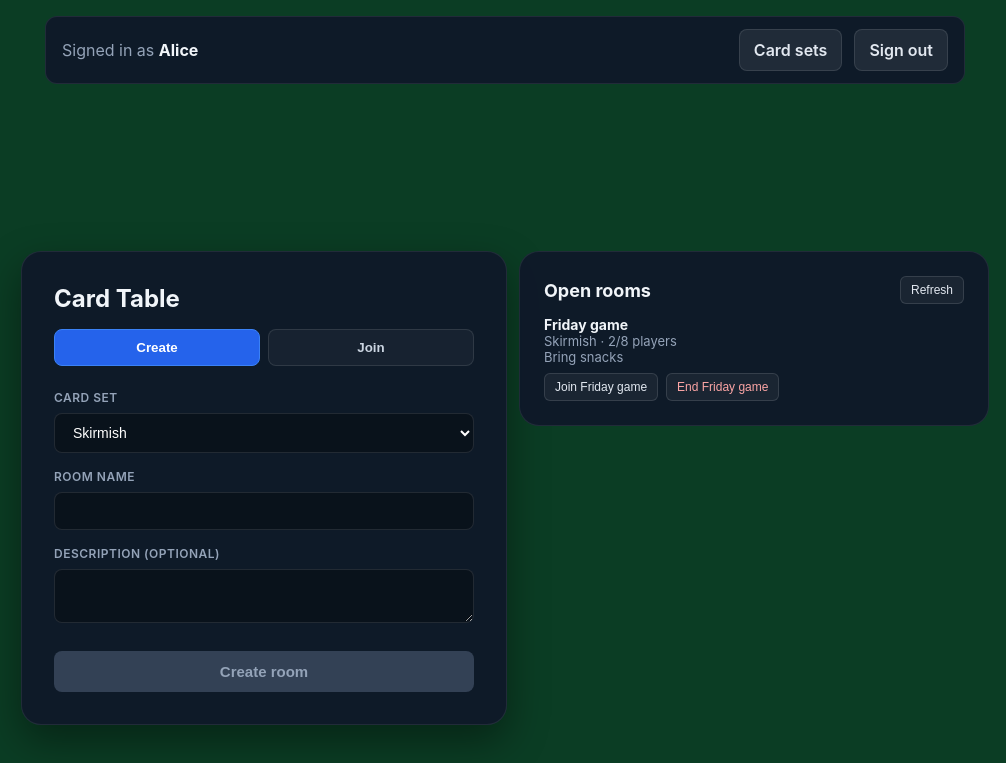
Test case: Lobby › requires room details when creating and a room code when joining
Expected: the button "Create room" is disabled, 54,651 -> 474,692
Expected: the dropdown labelled "Card set" shows "Skirmish", 54,413 -> 474,453
In the field labelled "Room name": (264,511) 54,492 -> 474,530, type "Playtest"
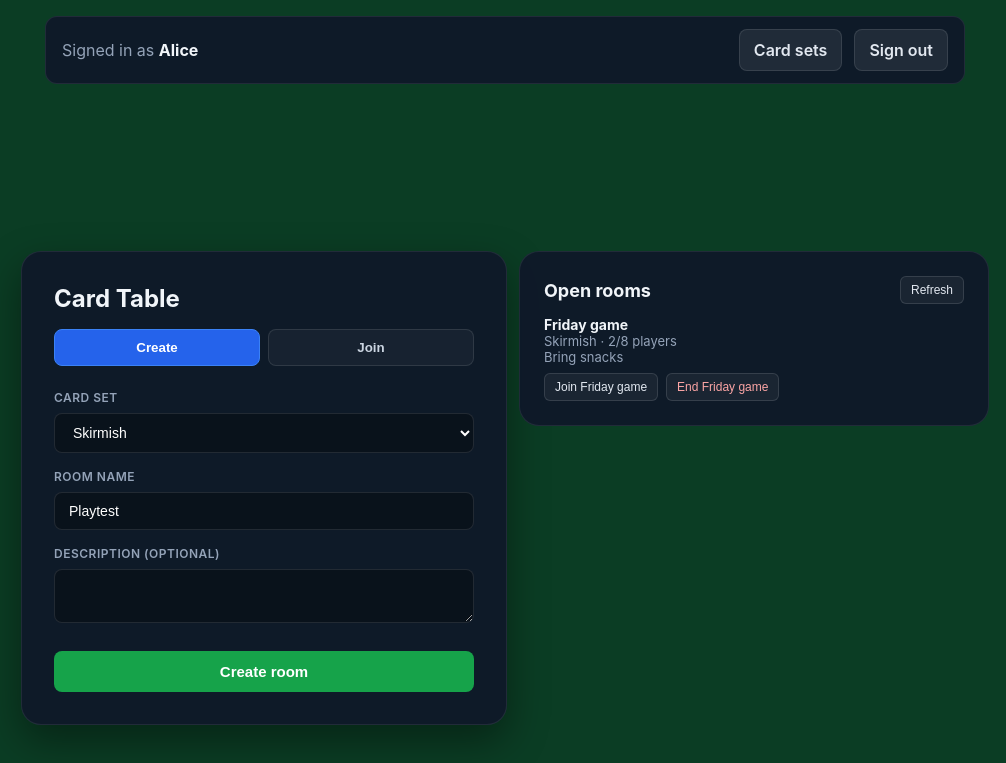
Now the button "Create room" is enabled, box 54,651 -> 474,692
Click the button "Join": (371,348) 268,329 -> 474,366
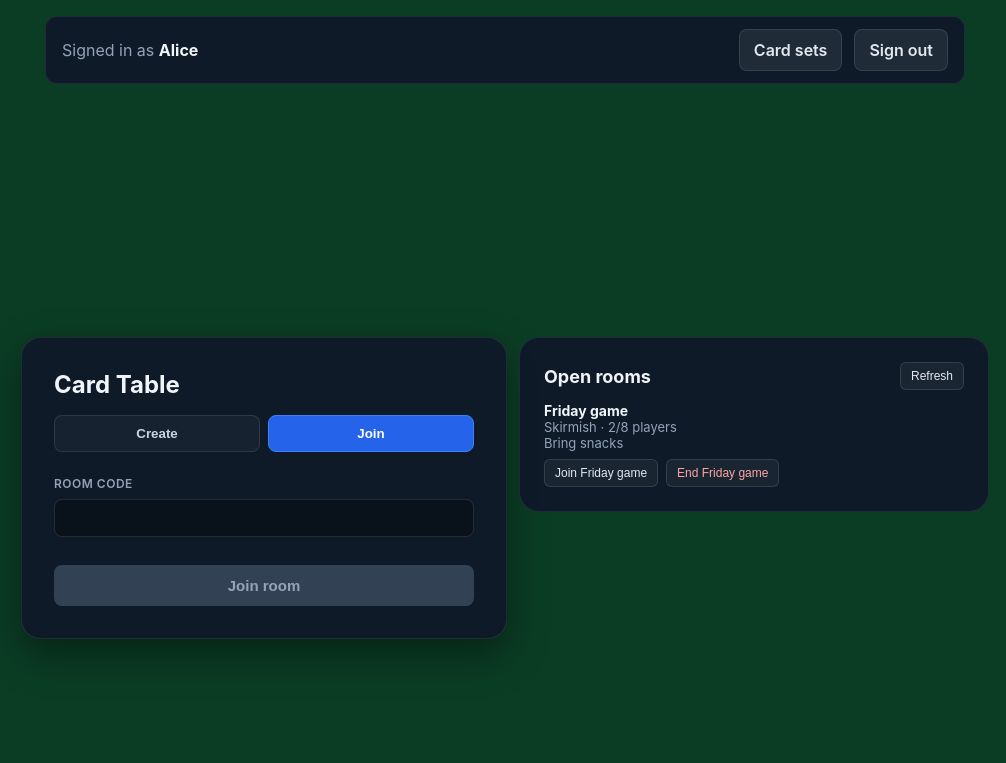
Now the button "Join room" is disabled, box 54,565 -> 474,606
In the field labelled "Room code": (264,518) 54,499 -> 474,537, type "KM7XPQ3D"
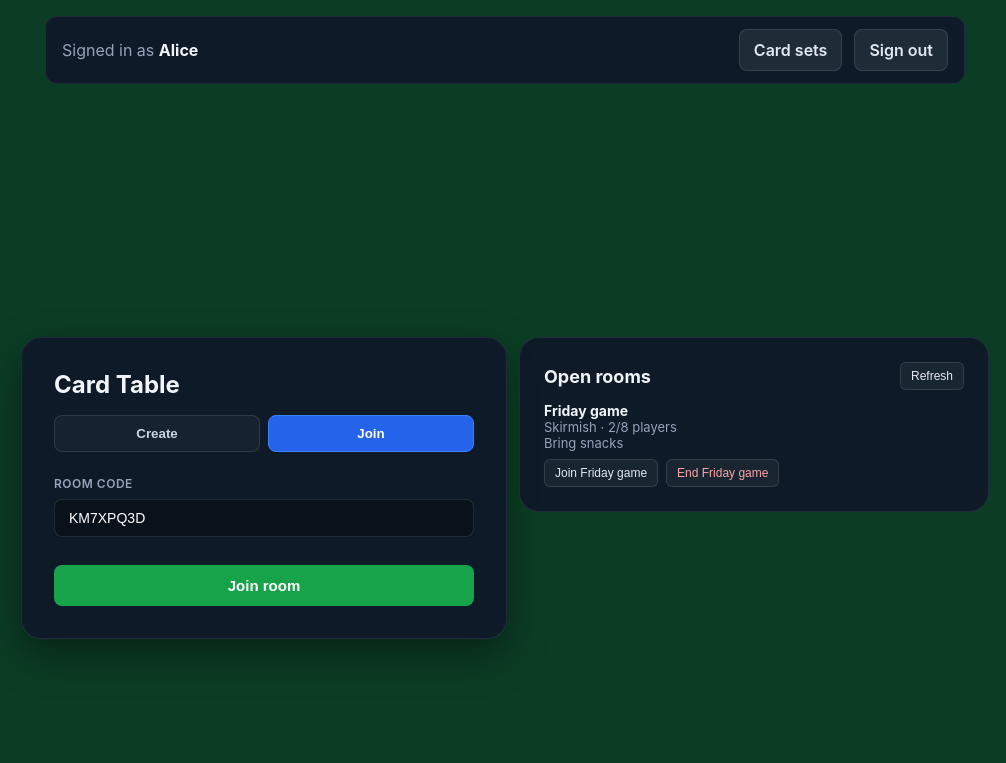
Now the button "Join room" is enabled, box 54,565 -> 474,606
